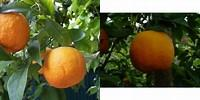orange: (36, 45, 91, 90), (126, 33, 180, 72), (0, 9, 33, 47)
